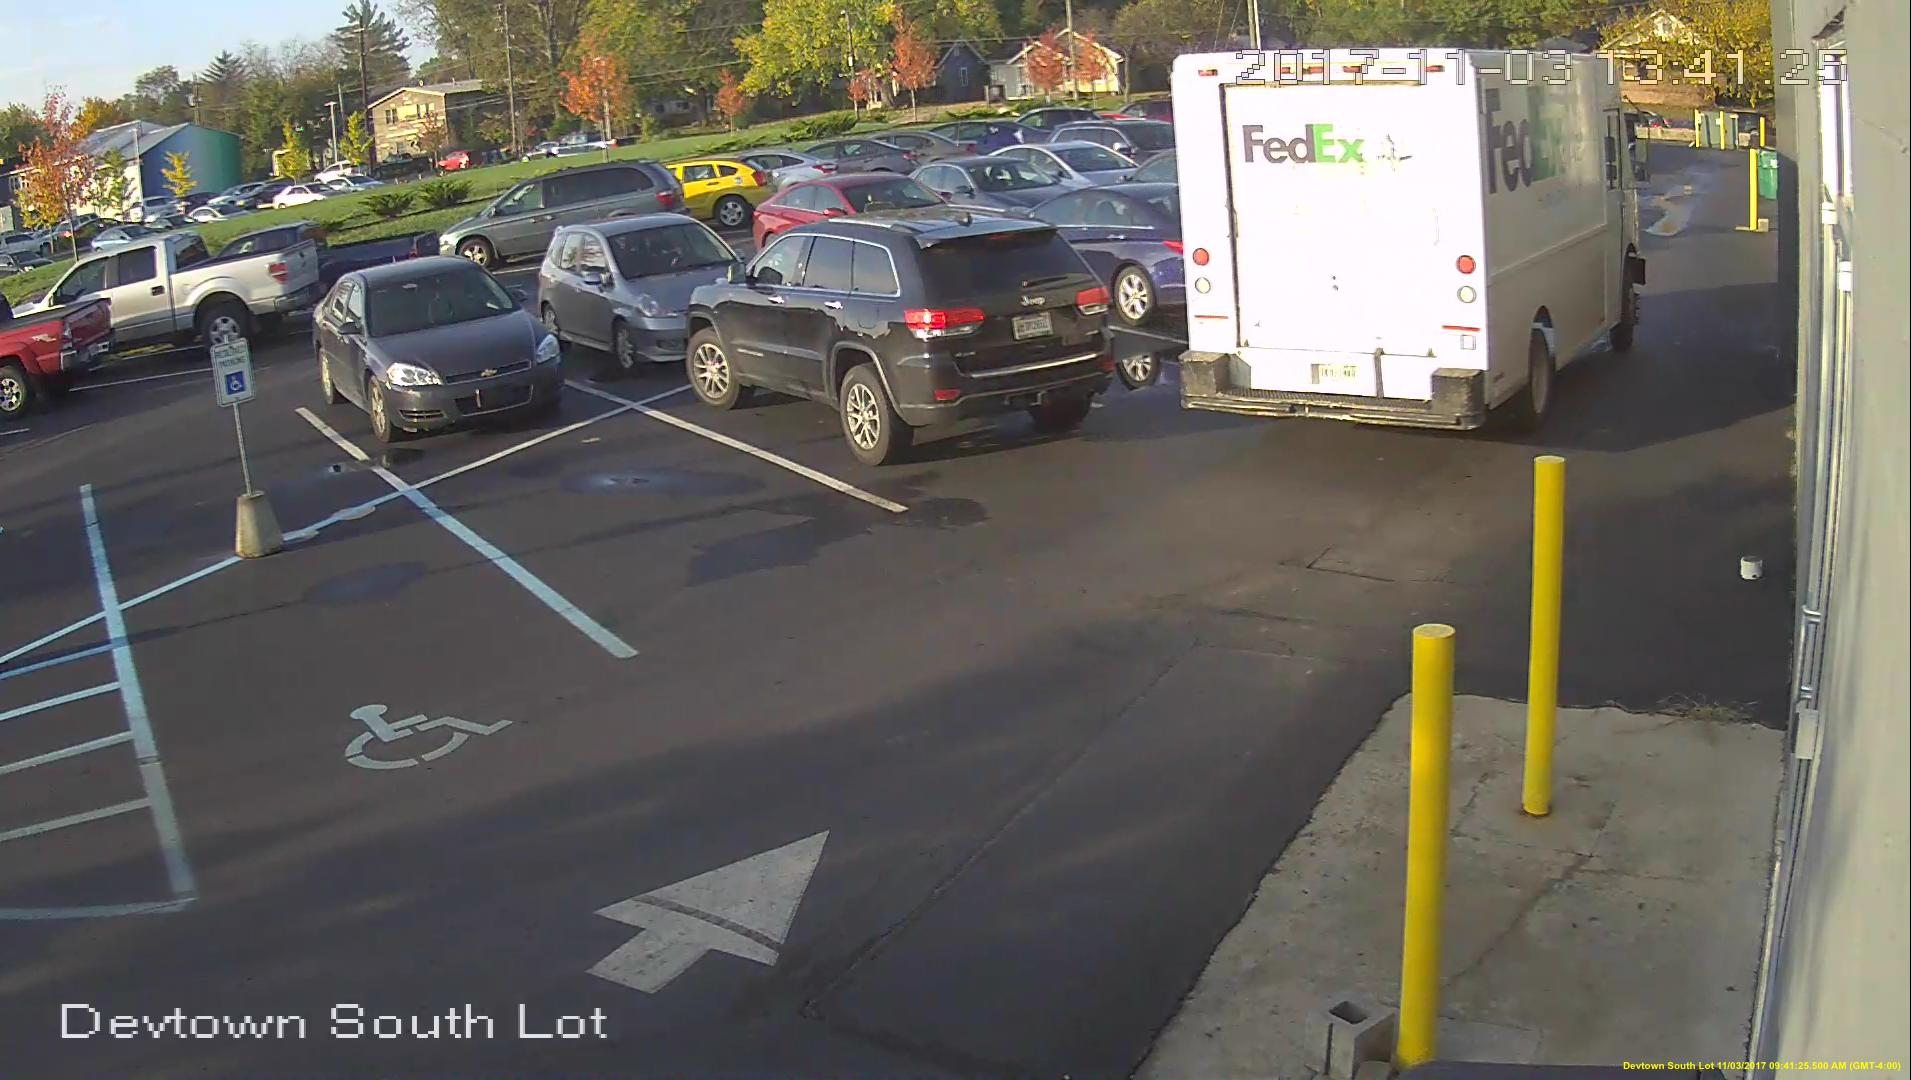fedex_truck: (1164, 39, 1650, 440)
